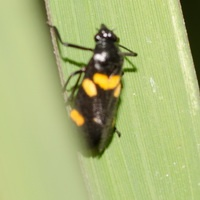insect: (49, 24, 136, 152)
